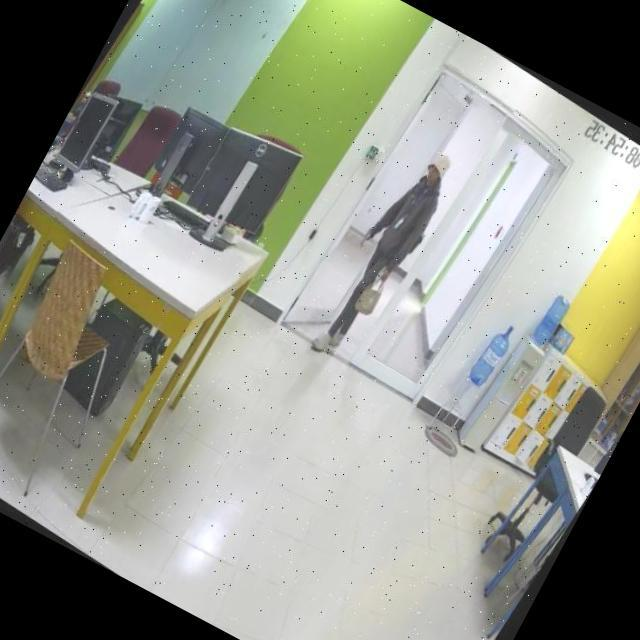person: (296, 132, 465, 374)
